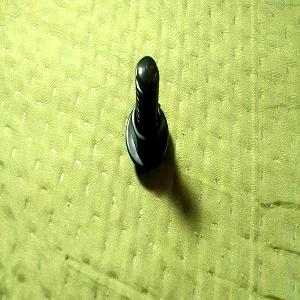parafuso: (125, 56, 169, 170)
